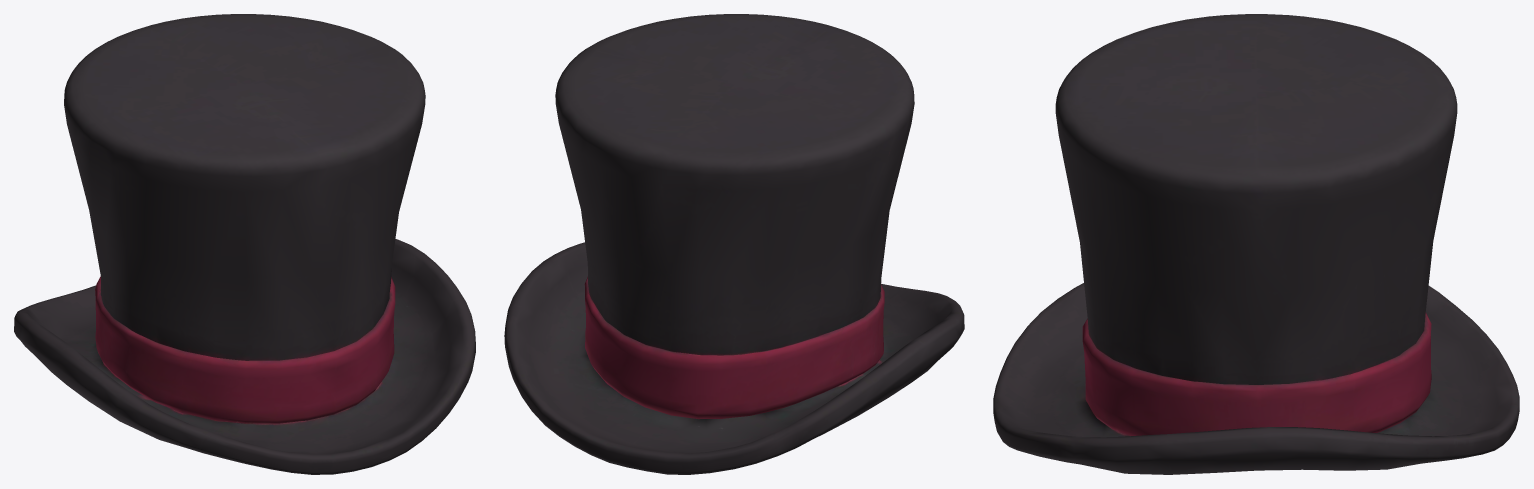
Rendered from mak_tophat.glb.
3 renders of one model, left to right at view 1: azimuth 30°, elevation 25°; view 2: azimuth 150°, elevation 25°; view 3: azimuth 270°, elevation 25°, orthographic. The views are drawn at different scales.
Visible parts, largest first — view 1: mak_tophat; view 2: mak_tophat; view 3: mak_tophat.
Part boxes in pixels (box(x1,y1,x2,y2)): mak_tophat: box(14, 14, 475, 474); mak_tophat: box(504, 14, 964, 474); mak_tophat: box(993, 14, 1519, 474).
Size of the model in its own units: 0.374 by 0.2848 by 0.4058.
Materials: 1 (1 with a texture image).
